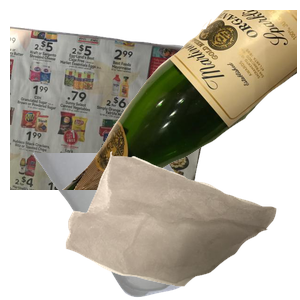glass: (60, 10, 300, 190)
paper: (10, 21, 222, 201)
plastic: (29, 153, 245, 300)
trash: (63, 149, 300, 300)
